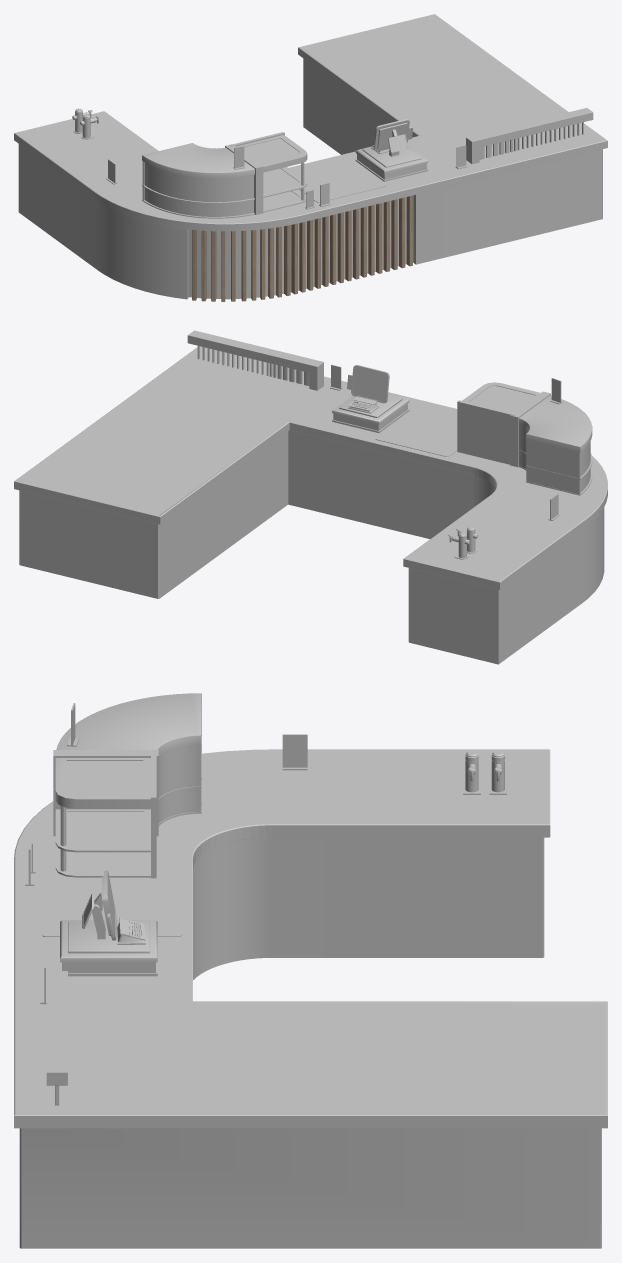
Rendered from D_DeskCafe_001.fbx.
The picture shows the model from 3 angles, top to bottom: view 1: azimuth 30°, elevation 25°; view 2: azimuth 150°, elevation 25°; view 3: azimuth 270°, elevation 25°; orthographic projection. The views are drawn at different scales.
Parts seen in each view (by area): view 1: D_DeskCafe_001, D_DeskCafe_001_glass; view 2: D_DeskCafe_001; view 3: D_DeskCafe_001.
Boxes of the visible parts, box(x1,y1,x2,y2) form: D_DeskCafe_001: box(14, 14, 607, 301); D_DeskCafe_001_glass: box(144, 162, 253, 216); D_DeskCafe_001: box(14, 330, 607, 664); D_DeskCafe_001: box(14, 693, 607, 1248).
Bounding box in the file's own units: 5.79 × 1.84 × 3.96.
